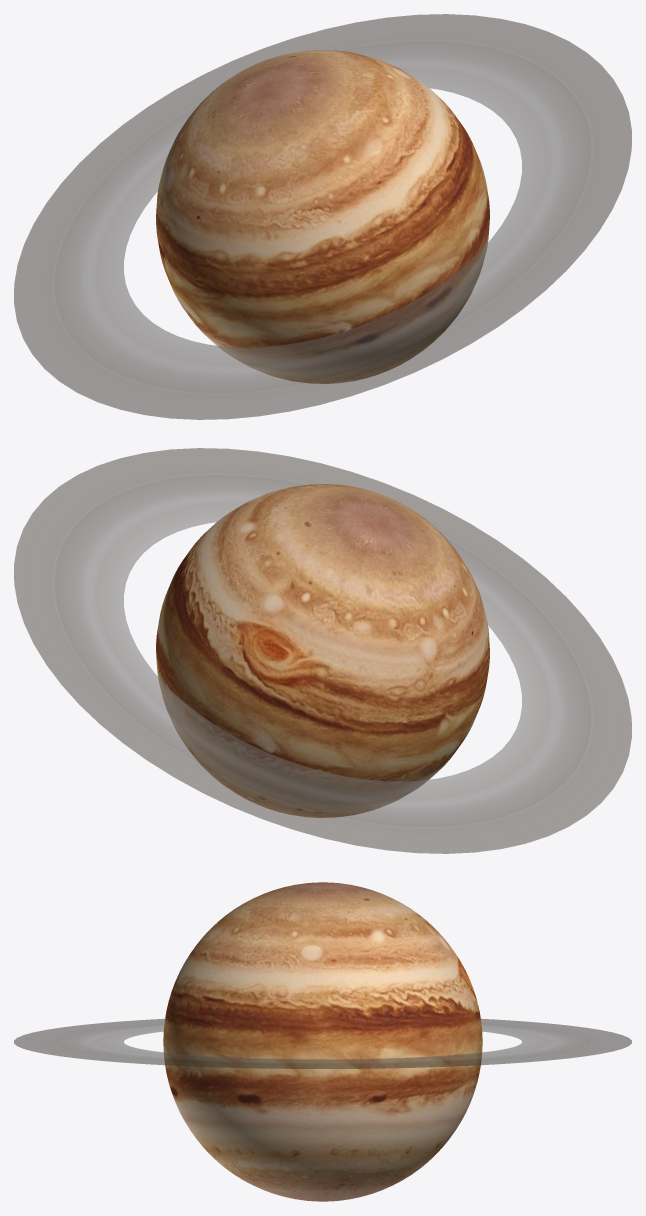
Rendered from planet_jupyther.glb.
3 views of the same model, one above another, from view 1: azimuth 30°, elevation 25°; view 2: azimuth 150°, elevation 25°; view 3: azimuth 270°, elevation 25° (orthographic). The views are drawn at different scales.
Parts seen in each view (by area): view 1: Torus_1, Sphere_2; view 2: Torus_1, Sphere_2; view 3: Sphere_2, Torus_1.
Boxes of the visible parts, x1,y1,x2,y2 form: Torus_1: [14, 14, 631, 419]; Sphere_2: [156, 50, 489, 383]; Torus_1: [14, 448, 631, 853]; Sphere_2: [156, 484, 489, 817]; Sphere_2: [163, 882, 482, 1201]; Torus_1: [14, 1018, 631, 1068].
Size of the model in its own units: 0.3643 by 0.2 by 0.3871.
2 materials, 2 textured.
